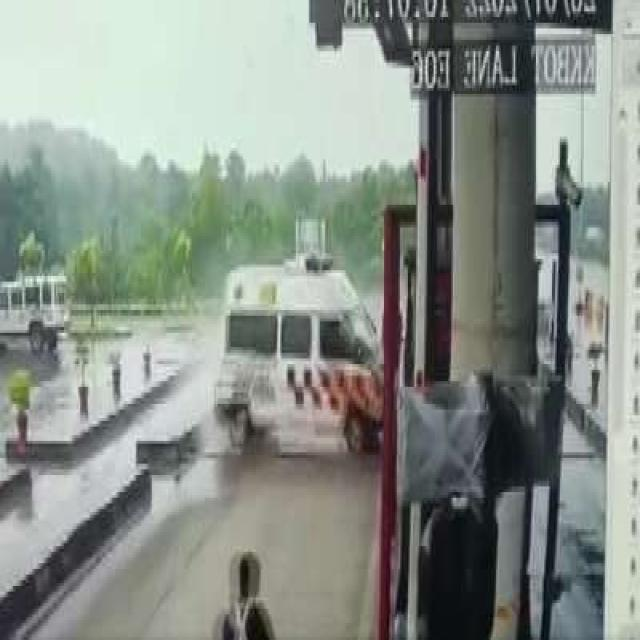car: (0, 276, 68, 352)
emergency: (215, 220, 382, 452)
